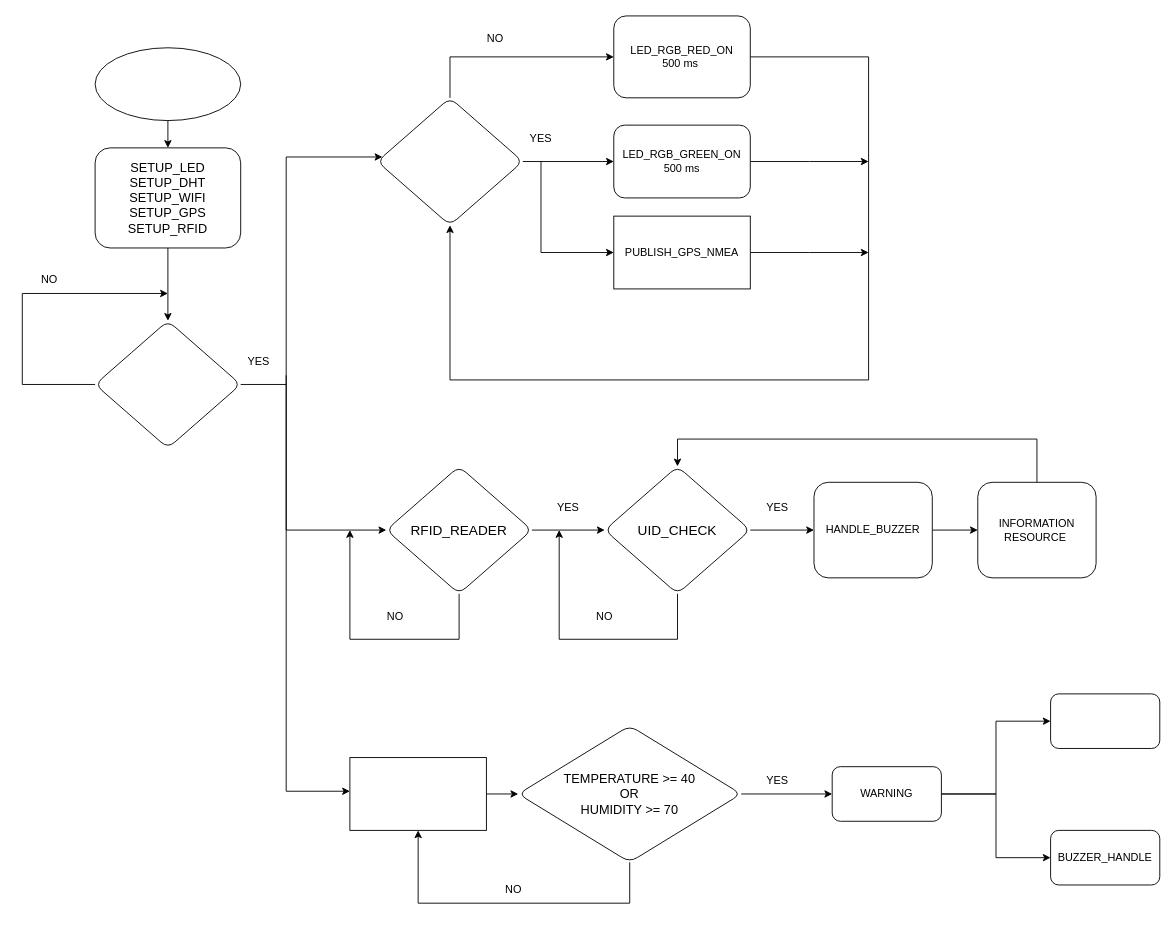
This 1176x926 diagram has some shape labels left out. The box of each missing label's shape, as (x1, y1, x2, y2) in pixels:
CONNECT WIFI , MQTT: (94, 320, 241, 448)
GPS_ENCODE: (376, 97, 523, 225)
READ TEMP , HUMIDITY: (349, 757, 486, 830)
SEND WARNING TO EMAIL: (1050, 693, 1160, 748)
START: (94, 47, 241, 121)
